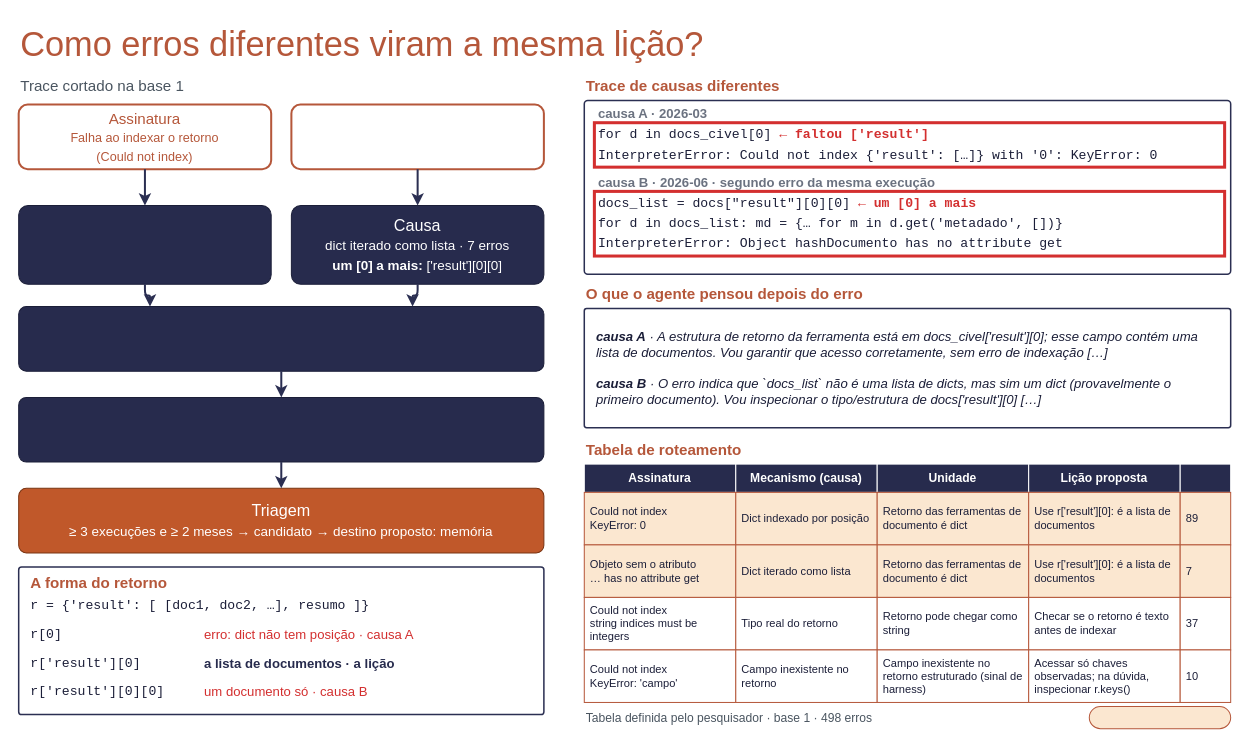
The diagram is 1248 pixels wide and 746 high, and some of its shapes have lost their labels. The box of each missing label's shape, as (x1, y1, x2, y2) in pixels:
Assinatura Objeto sem o atributo esperado: (290, 103, 544, 170)
Causa dict indexado por posição · 89 erros faltou a chave: docs[0]: (18, 205, 271, 284)
Erros: (1179, 463, 1231, 492)
Lição use r['result'][0]: é a lista de documentos: (18, 306, 544, 371)
mesma unidade: (1088, 705, 1231, 729)
Unidade U_contrato_dict · 96 erros · 87 execuções · 8 meses: (18, 396, 544, 462)
